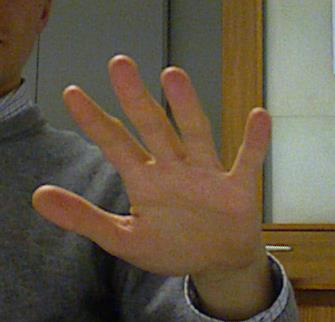down: (28, 52, 280, 275)
